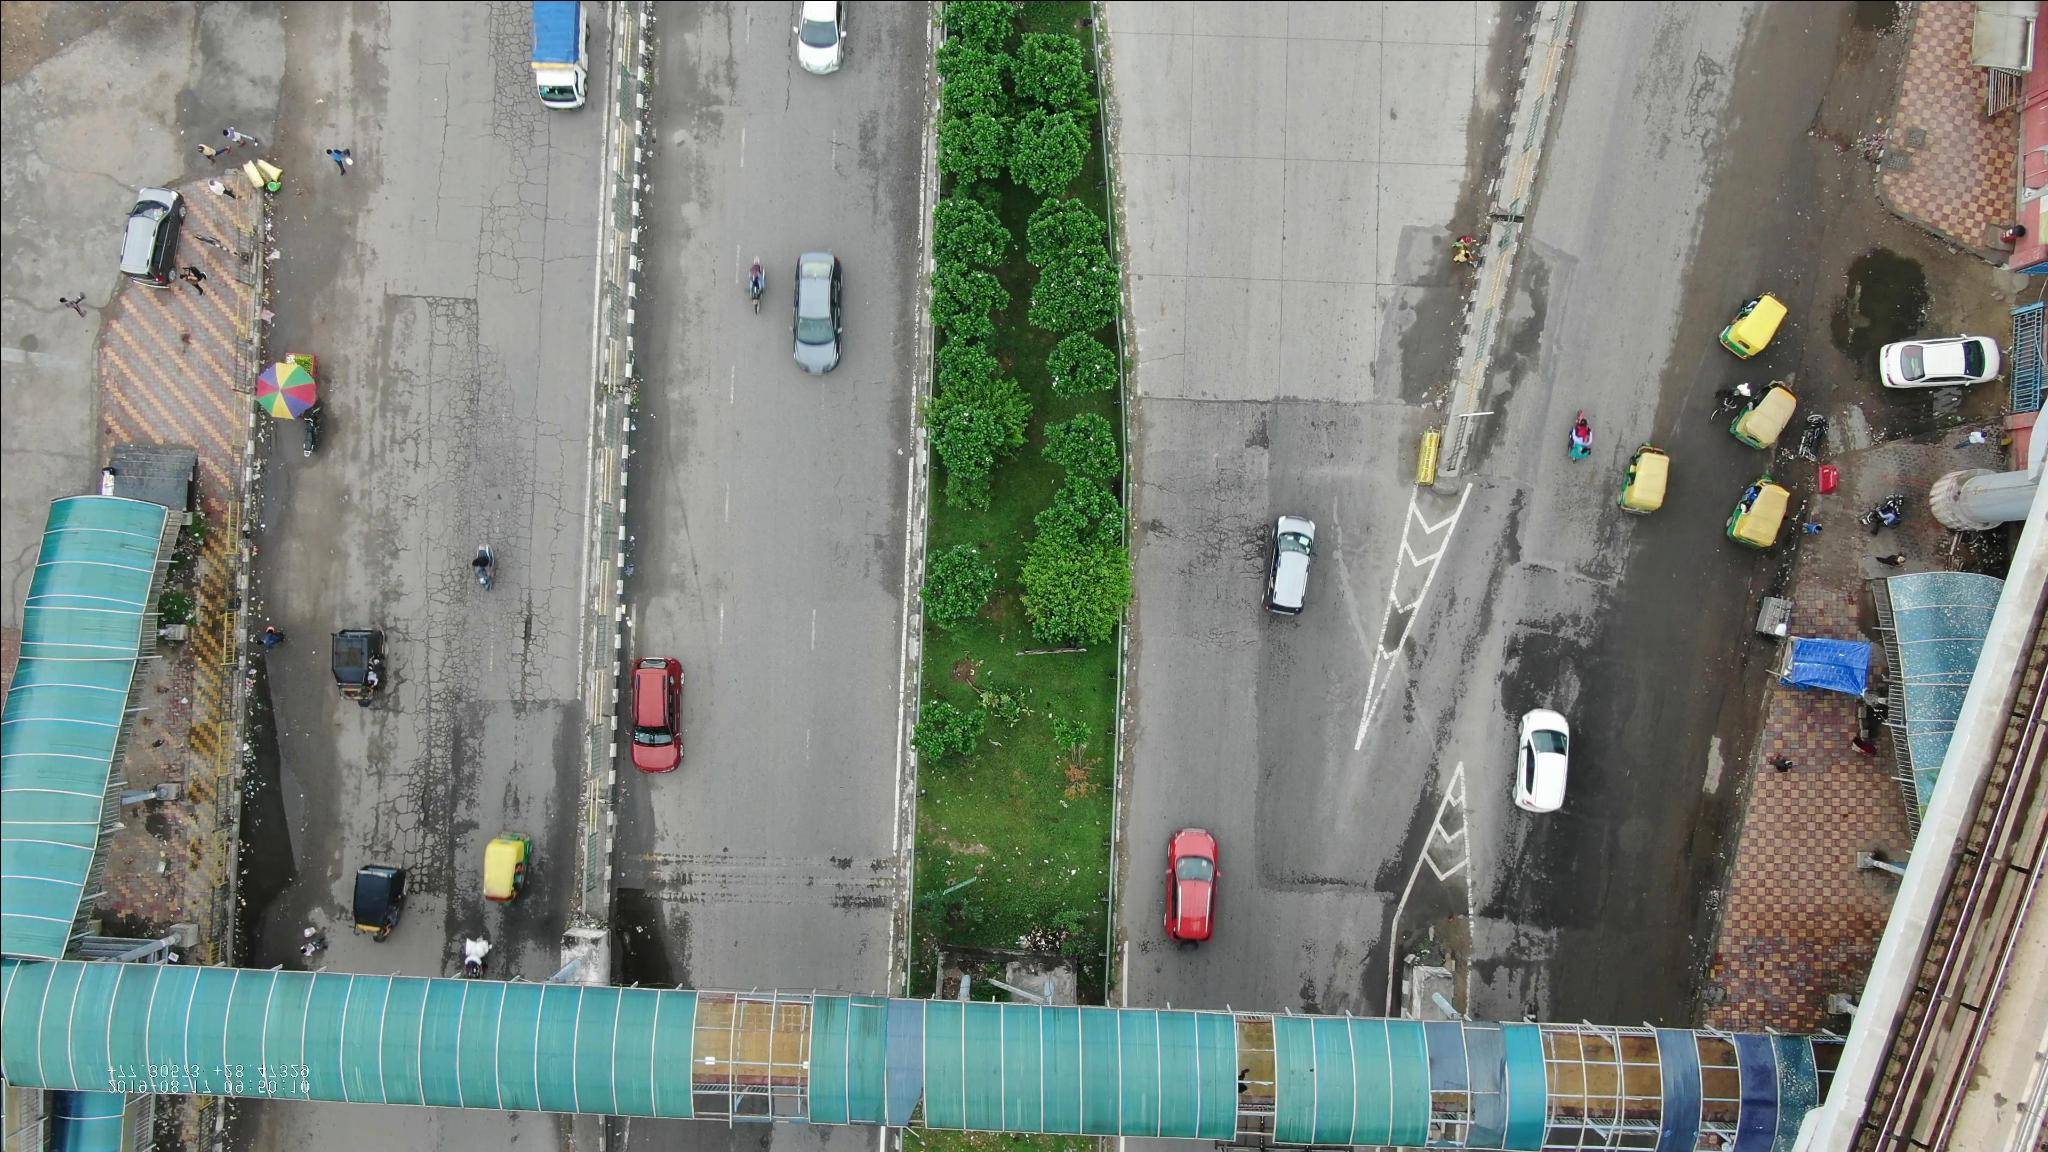Cracks: (326, 308, 461, 568), (1151, 428, 1265, 654), (430, 128, 558, 295), (471, 343, 577, 539), (361, 715, 466, 857), (1608, 48, 1736, 141), (430, 4, 533, 120), (439, 610, 577, 691)
Muddy_road: (1643, 814, 1744, 999), (1692, 644, 1769, 791)
